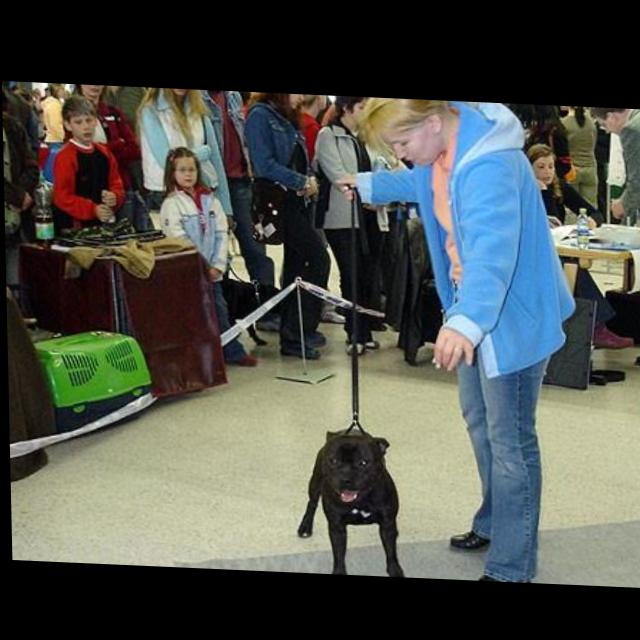face: (381, 100, 447, 166), (63, 95, 99, 143), (168, 147, 204, 188), (335, 93, 374, 125), (531, 140, 558, 183), (264, 90, 309, 112), (593, 102, 624, 130), (77, 84, 110, 96), (165, 87, 196, 96)
person: (337, 93, 582, 580), (243, 90, 332, 358), (158, 144, 258, 366), (314, 92, 399, 353), (192, 88, 269, 320), (137, 86, 238, 233), (73, 83, 149, 238), (51, 97, 131, 237), (2, 82, 46, 306), (591, 102, 640, 237), (512, 140, 590, 224), (563, 101, 600, 213)
staffford: (296, 423, 407, 573)
